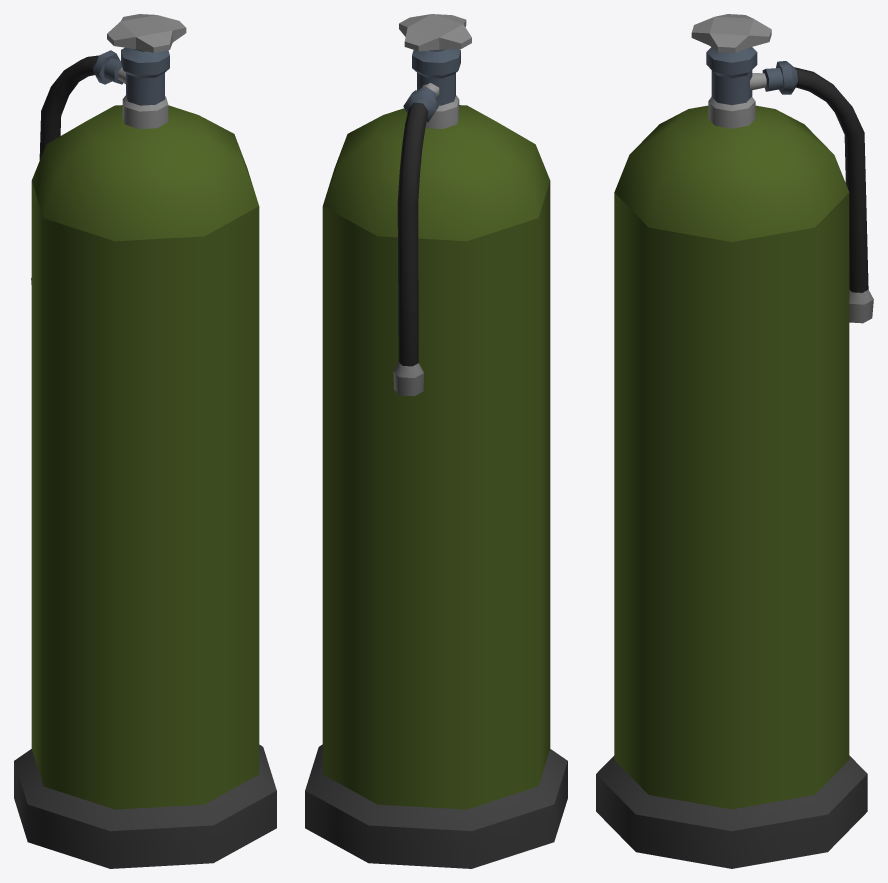
Rendered from GasCylinder_1_4.fbx.
3 renders of one model, left to right at view 1: azimuth 30°, elevation 25°; view 2: azimuth 150°, elevation 25°; view 3: azimuth 270°, elevation 25°, orthographic.
Parts seen in each view (by area): view 1: GasCylinder_1_4; view 2: GasCylinder_1_4; view 3: GasCylinder_1_4.
Part boxes in pixels (<box>): GasCylinder_1_4: <box>14,14,276,868</box>; GasCylinder_1_4: <box>305,14,567,868</box>; GasCylinder_1_4: <box>596,14,873,868</box>.
Bounding box in the file's own units: 27.47 × 87.73 × 28.1.
